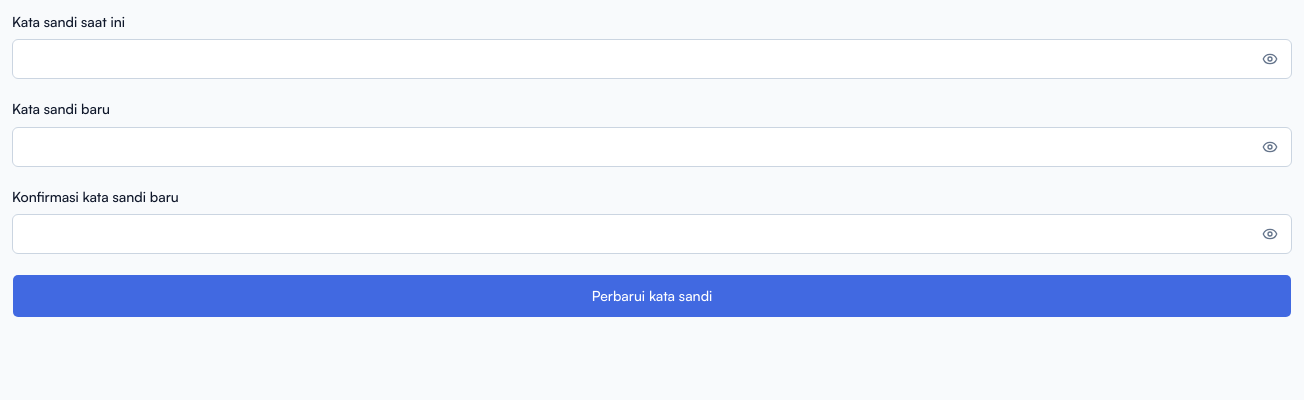
Scenario: PasswordChangeForm › announces success and performs a full document navigation after the server issues a new session
Step 1. Type "OldDosenBrowser-123" into the password field labelled "Kata sandi saat ini" → (652, 59), box [12,39,1292,79]
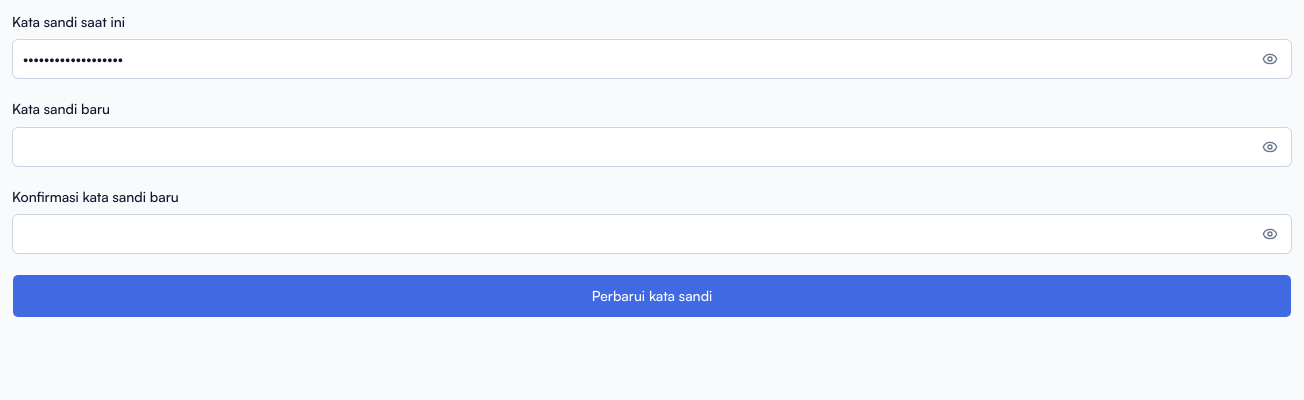
Step 2. Type "NewDosenBrowser-456" into the password field labelled "Kata sandi baru" → (652, 146), box [12,126,1292,166]
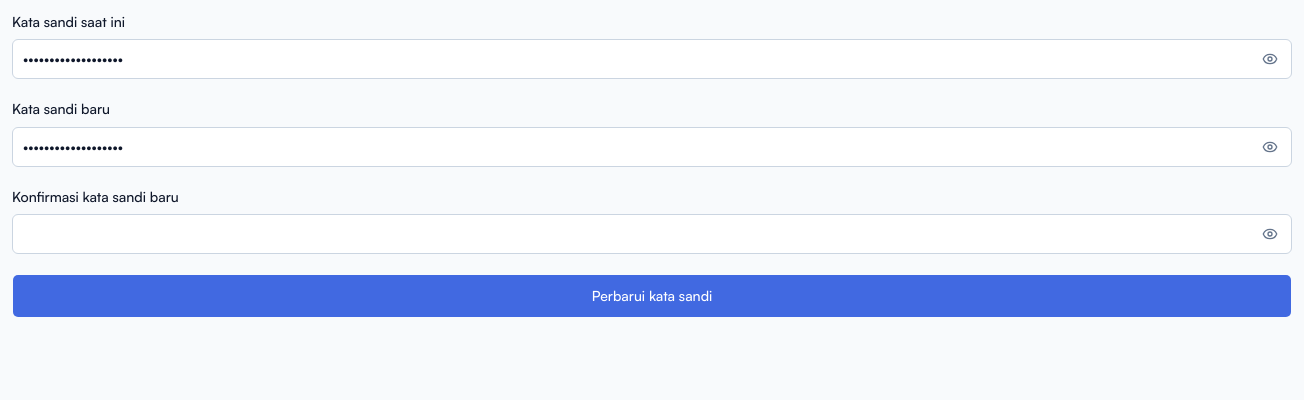
Step 3. Type "NewDosenBrowser-456" into the password field labelled "Konfirmasi kata sandi baru" → (652, 234), box [12,214,1292,254]
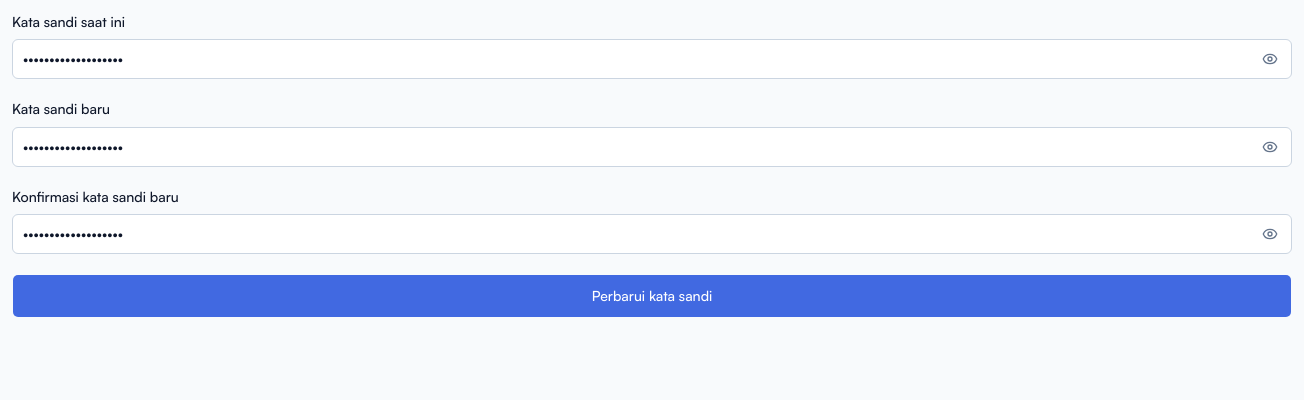
Step 4. Click the button "Perbarui kata sandi" → (652, 296), box [12,274,1292,318]
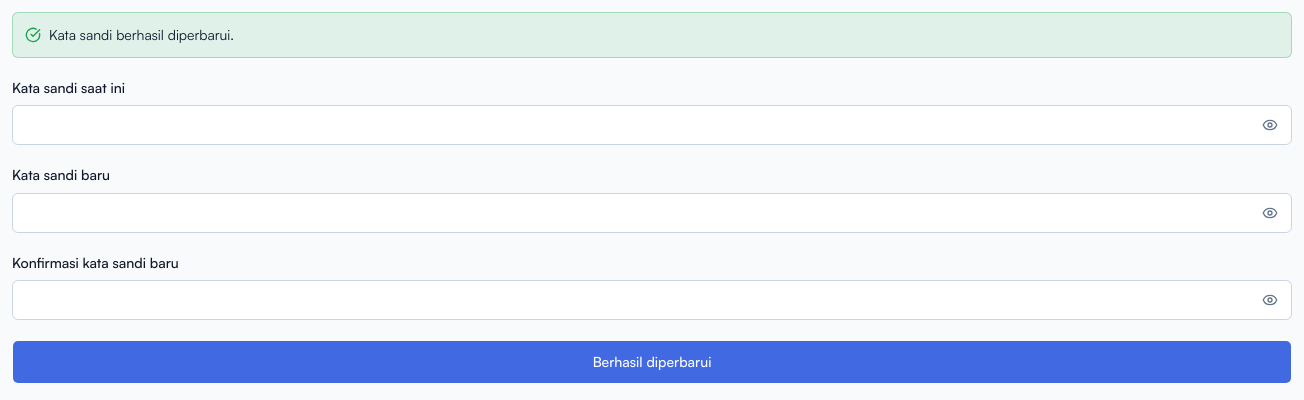
Now the message reads "Kata sandi berhasil diperbarui.", box [49,26,234,43]
